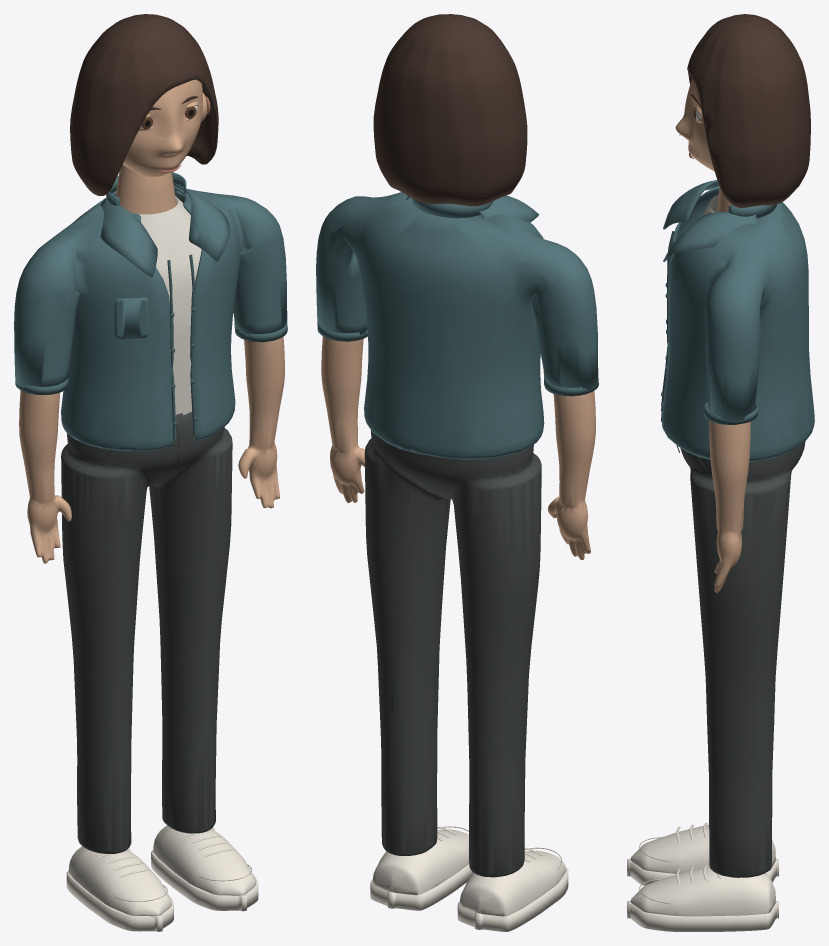
The model's file is female-static-v2.glb.
The picture shows the model from 3 angles, left to right: view 1: azimuth 30°, elevation 25°; view 2: azimuth 150°, elevation 25°; view 3: azimuth 270°, elevation 25°; orthographic projection. The views are drawn at different scales.
Visible parts, largest first — view 1: Female · continuous trousers [static], Female · continuous tailored overshirt [static], Female · continuous side-swept bob [static], Female · continuous forearm hand fingers [static], Female · continuous forearm hand fingers.001 [static], Female · inner tee [static], Female · shaped sneaker upper.001 [static], Female · shaped sneaker upper [static], Female · continuous face / nose / cheeks [static], Female · folded collar [static], Female · shaped neck [static], Female · folded collar.001 [static] (+5 smaller); view 2: Female · continuous trousers [static], Female · continuous tailored overshirt [static], Female · continuous side-swept bob [static], Female · continuous forearm hand fingers [static], Female · continuous forearm hand fingers.001 [static], Female · shaped sneaker upper [static], Female · shaped sneaker upper.001 [static], Female · rubber outsole [static], Female · rubber outsole.001 [static], Female · folded collar [static], Female · back collar band [static]; view 3: Female · continuous tailored overshirt [static], Female · continuous trousers [static], Female · continuous side-swept bob [static], Female · shaped sneaker upper.001 [static], Female · continuous forearm hand fingers.001 [static], Female · shaped sneaker upper [static], Female · rubber outsole.001 [static], Female · folded collar.001 [static], Female · continuous face / nose / cheeks [static], Female · folded collar [static], Female · rubber outsole [static], Female · back collar band [static] (+1 smaller).
Boxes of the visible parts, bbox=[...] form: Female · continuous trousers [static]: bbox=[61, 412, 232, 853]; Female · continuous tailored overshirt [static]: bbox=[14, 186, 287, 451]; Female · continuous side-swept bob [static]: bbox=[70, 14, 218, 196]; Female · continuous forearm hand fingers [static]: bbox=[19, 390, 71, 563]; Female · continuous forearm hand fingers.001 [static]: bbox=[238, 336, 284, 508]; Female · inner tee [static]: bbox=[138, 196, 201, 415]; Female · shaped sneaker upper.001 [static]: bbox=[153, 825, 255, 895]; Female · shaped sneaker upper [static]: bbox=[68, 846, 171, 916]; Female · continuous face / nose / cheeks [static]: bbox=[122, 79, 202, 176]; Female · folded collar [static]: bbox=[100, 198, 157, 277]; Female · shaped neck [static]: bbox=[115, 165, 176, 214]; Female · folded collar.001 [static]: bbox=[173, 183, 230, 261]; Female · continuous trousers [static]: bbox=[364, 430, 541, 877]; Female · continuous tailored overshirt [static]: bbox=[316, 192, 598, 459]; Female · continuous side-swept bob [static]: bbox=[373, 14, 527, 206]; Female · continuous forearm hand fingers [static]: bbox=[548, 391, 595, 559]; Female · continuous forearm hand fingers.001 [static]: bbox=[321, 336, 364, 503]; Female · shaped sneaker upper [static]: bbox=[459, 850, 565, 916]; Female · shaped sneaker upper.001 [static]: bbox=[372, 829, 469, 895]; Female · rubber outsole [static]: bbox=[457, 867, 568, 931]; Female · rubber outsole.001 [static]: bbox=[370, 864, 473, 910]; Female · folded collar [static]: bbox=[479, 195, 539, 222]; Female · back collar band [static]: bbox=[411, 198, 493, 218]; Female · continuous tailored overshirt [static]: bbox=[661, 186, 814, 461]; Female · continuous trousers [static]: bbox=[680, 441, 805, 877]; Female · continuous side-swept bob [static]: bbox=[687, 14, 810, 207]; Female · shaped sneaker upper.001 [static]: bbox=[630, 866, 775, 916]; Female · continuous forearm hand fingers.001 [static]: bbox=[709, 421, 750, 592]; Female · shaped sneaker upper [static]: bbox=[630, 824, 775, 873]; Female · rubber outsole.001 [static]: bbox=[627, 900, 778, 931]; Female · folded collar.001 [static]: bbox=[663, 212, 757, 261]; Female · continuous face / nose / cheeks [static]: bbox=[675, 79, 714, 171]; Female · folded collar [static]: bbox=[663, 180, 719, 229]; Female · rubber outsole [static]: bbox=[627, 858, 778, 885]; Female · back collar band [static]: bbox=[728, 204, 776, 218].
Size of the model in its own units: 0.5587 by 1.73 by 0.3354.
